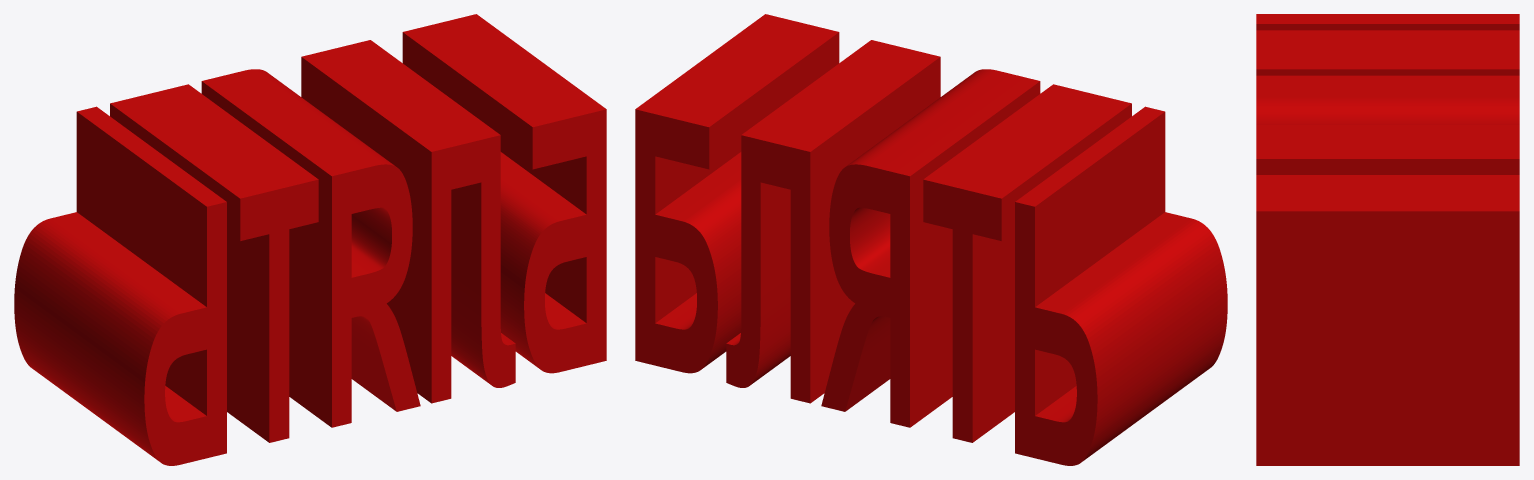
File: error.obj
3 views of the same model, side by side, from view 1: azimuth 30°, elevation 25°; view 2: azimuth 150°, elevation 25°; view 3: azimuth 270°, elevation 25° (orthographic).
Parts seen in each view (by area): view 1: Текст; view 2: Текст; view 3: Текст.
Boxes of the visible parts, box(x1,y1,x2,y2) form: Текст: box(14, 14, 606, 465); Текст: box(635, 14, 1227, 465); Текст: box(1256, 14, 1519, 465).
Size of the model in its own units: 2.34 by 1.22 by 1.14.
